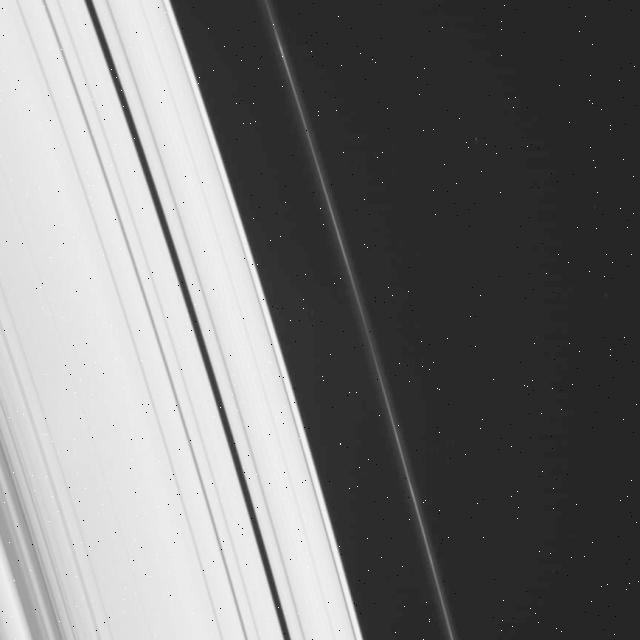Saturn: (0, 0, 488, 640)
